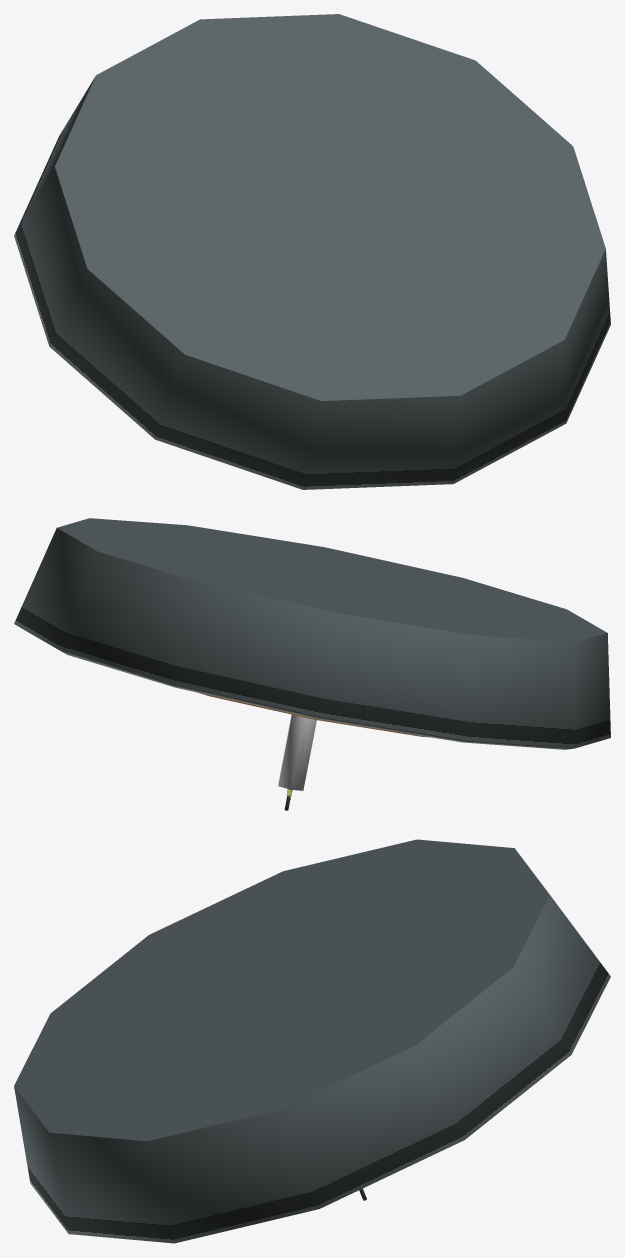
The model's file is C_CakeCandle.fbx.
3 views of the same model, one above another, from view 1: azimuth 30°, elevation 25°; view 2: azimuth 150°, elevation 25°; view 3: azimuth 270°, elevation 25° (orthographic). The views are drawn at different scales.
Parts seen in each view (by area): view 1: Cake001; view 2: Cake001; view 3: Cake001.
Boxes of the visible parts, left/top/right/bottom form: Cake001: left=14, top=14, right=610, bottom=489; Cake001: left=14, top=518, right=610, bottom=810; Cake001: left=14, top=839, right=610, bottom=1243.
Bounding box in the file's own units: 60.14 × 32.2 × 57.55.
